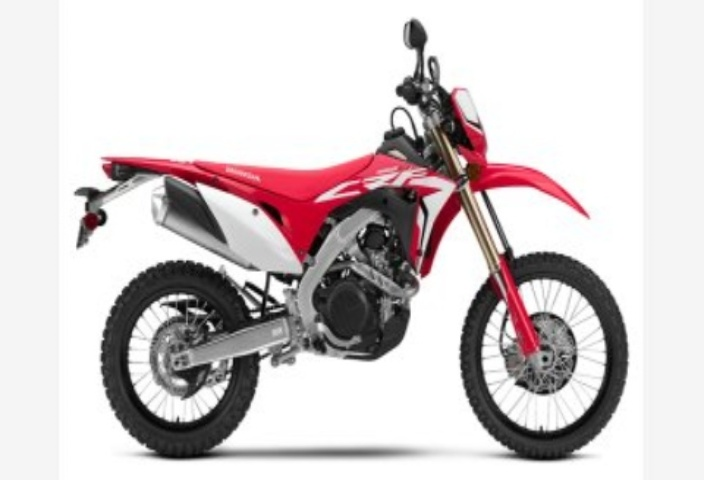motorcycle: (67, 2, 635, 473)
